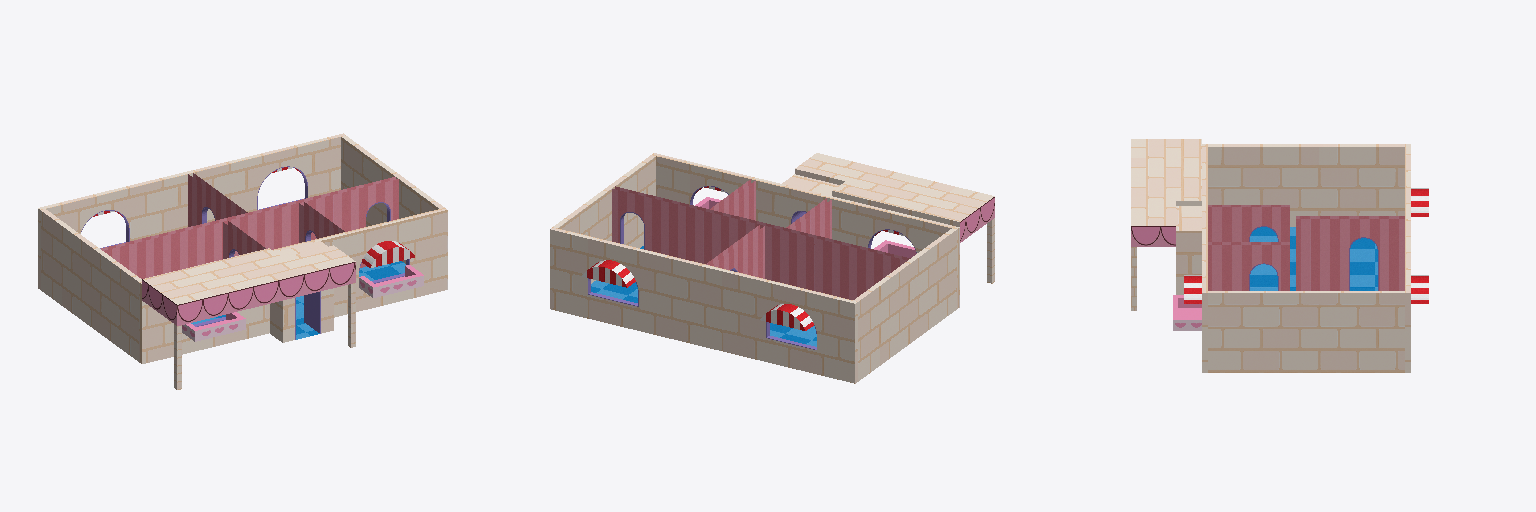
3 views of the same model, side by side, from view 1: azimuth 30°, elevation 25°; view 2: azimuth 150°, elevation 25°; view 3: azimuth 270°, elevation 25° (orthographic).
Visible parts, largest first — view 1: PRIMER_PISO; view 2: PRIMER_PISO; view 3: PRIMER_PISO.
Part boxes in pixels (x1,y1,x2,y2): PRIMER_PISO: (38,133,447,389); PRIMER_PISO: (550,153,994,383); PRIMER_PISO: (1131,139,1428,372).
Size of the model in its own units: 12 by 3.2 by 10.1.
Materials: 6 (6 with a texture image).